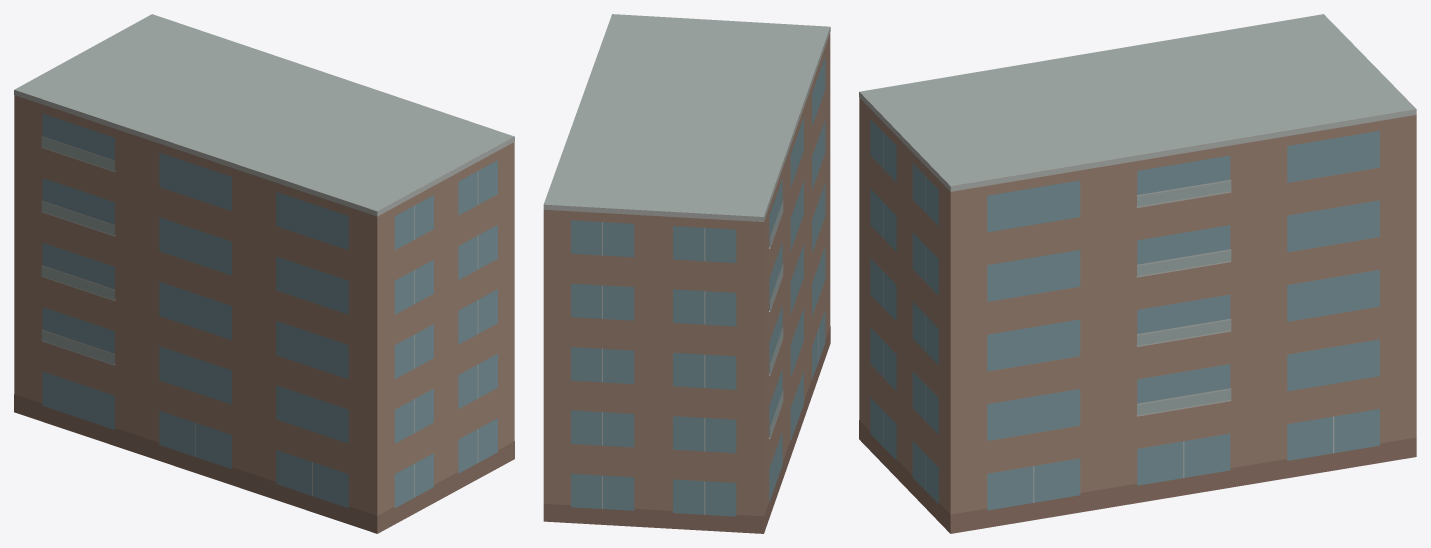
The model's file is survey-upis-32750234.glb.
3 views of the same model, side by side, from view 1: azimuth 30°, elevation 25°; view 2: azimuth 150°, elevation 25°; view 3: azimuth 270°, elevation 25° (orthographic). The views are drawn at different scales.
Visible parts, largest first — view 1: survey-upis-32750234.tmp; view 2: survey-upis-32750234.tmp; view 3: survey-upis-32750234.tmp.
Boxes of the visible parts, bbox=[...] form: survey-upis-32750234.tmp: bbox=[14, 14, 514, 533]; survey-upis-32750234.tmp: bbox=[543, 14, 830, 533]; survey-upis-32750234.tmp: bbox=[859, 14, 1416, 533].
Bounding box in the file's own units: 16.22 × 15.25 × 22.18.
